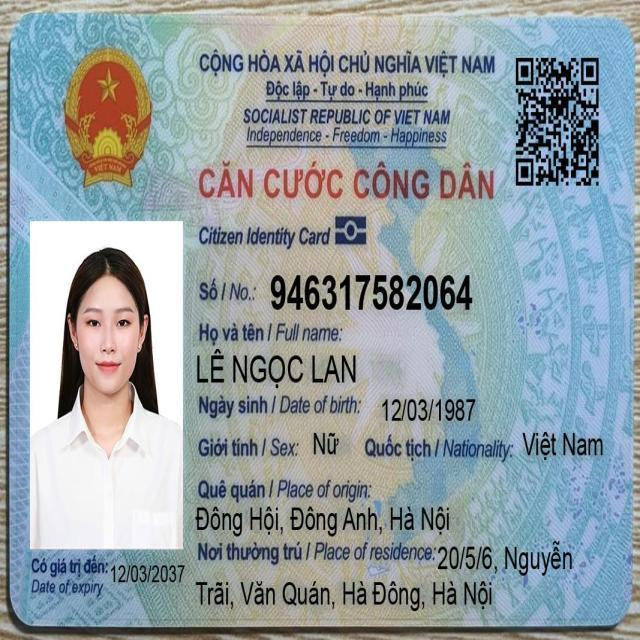current_place: (191, 572, 496, 616), (433, 536, 577, 580)
dob: (377, 390, 480, 429)
expire_date: (107, 556, 188, 589)
gender: (309, 423, 343, 463)
id: (266, 266, 475, 316)
name: (192, 344, 361, 392)
nationality: (519, 425, 608, 465)
origin_place: (192, 498, 454, 540)
